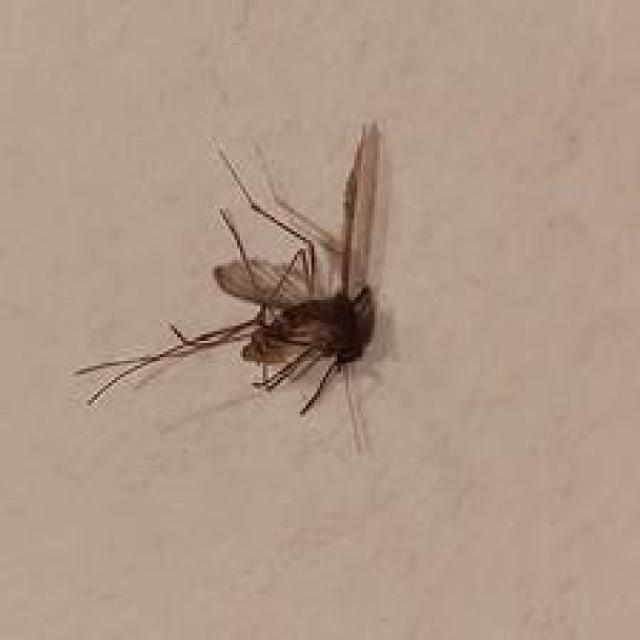Culex: (73, 118, 390, 453)
